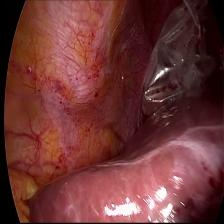Specimen Bag: (139, 0, 218, 133)
